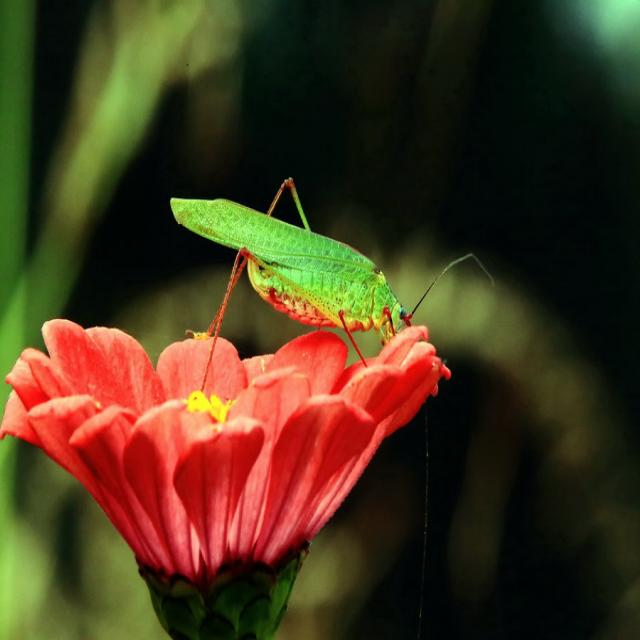ZhaMeng: (167, 167, 456, 370)
